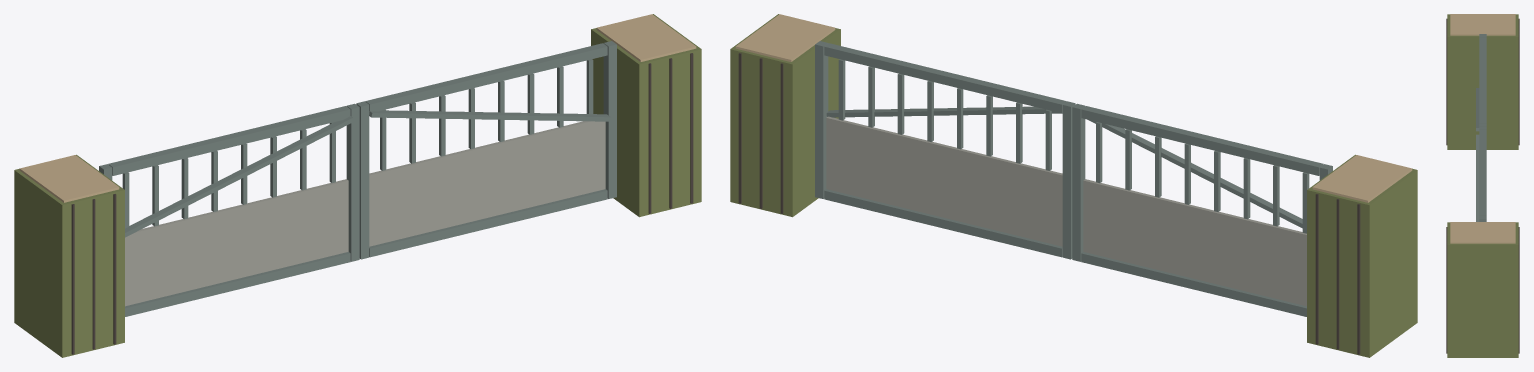
File: SM_PuertaViaDoble_v0_TuboChapa_e0_Sano_LOD0.fbx
3 renders of one model, left to right at view 1: azimuth 30°, elevation 25°; view 2: azimuth 150°, elevation 25°; view 3: azimuth 270°, elevation 25°, orthographic. The views are drawn at different scales.
Visible parts, largest first — view 1: SM_puerta_via_doble_v0_LOD0, Hoja_E, Hoja_O; view 2: SM_puerta_via_doble_v0_LOD0, Hoja_E, Hoja_O; view 3: SM_puerta_via_doble_v0_LOD0, Hoja_E, Hoja_O.
Part boxes in pixels (<box>): SM_puerta_via_doble_v0_LOD0: <box>14,14,701,357</box>; Hoja_E: <box>356,41,616,259</box>; Hoja_O: <box>99,103,359,316</box>; SM_puerta_via_doble_v0_LOD0: <box>730,14,1417,357</box>; Hoja_E: <box>815,41,1075,259</box>; Hoja_O: <box>1072,103,1332,316</box>; SM_puerta_via_doble_v0_LOD0: <box>1446,14,1519,357</box>; Hoja_E: <box>1476,126,1486,221</box>; Hoja_O: <box>1476,34,1486,131</box>.
Bounding box in the file's own units: 9.2 × 2.16 × 1.24.
